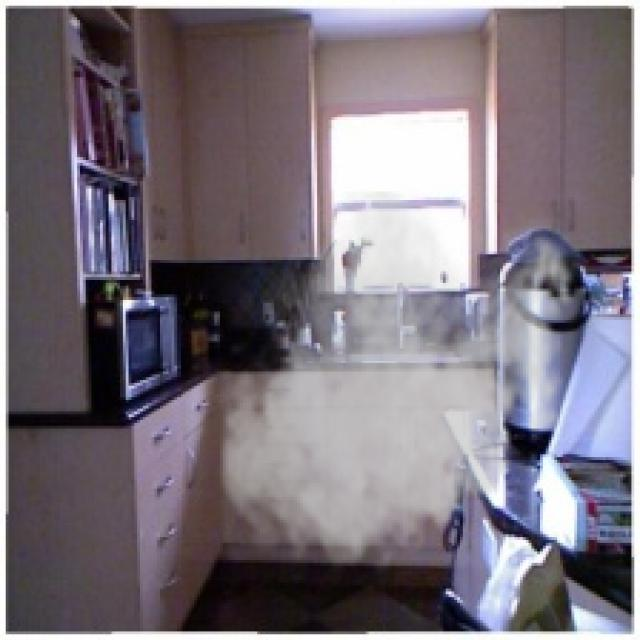smoke: (211, 191, 586, 580)
